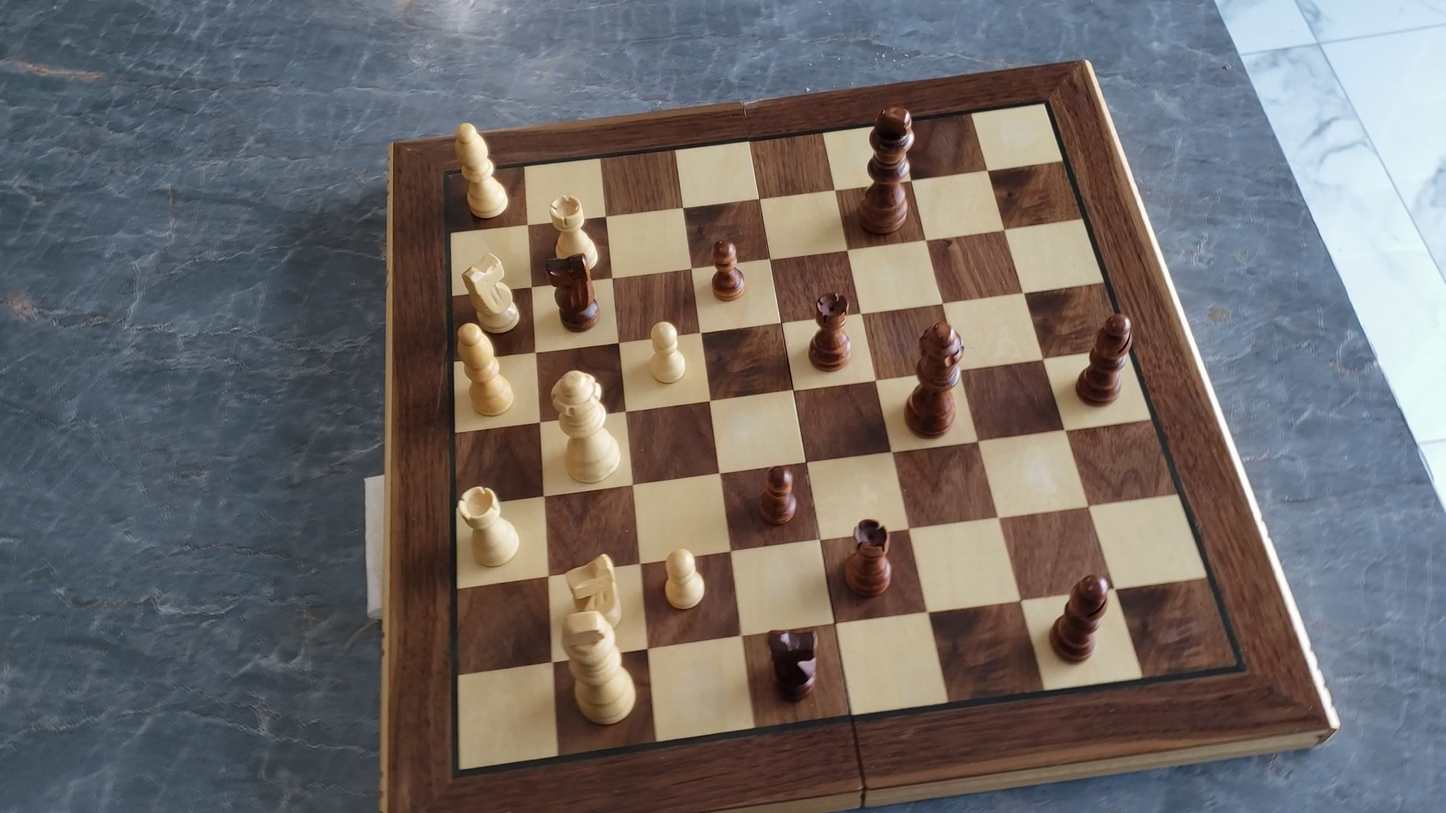black-bishop: (1046, 574, 1115, 668), (1073, 312, 1134, 412)
black-king: (855, 100, 922, 236)
black-knight: (547, 251, 601, 334), (766, 625, 822, 705)
black-pawn: (756, 461, 801, 529), (708, 235, 747, 304)
black-queen: (902, 318, 968, 440)
black-rook: (840, 516, 895, 600), (806, 289, 856, 373)
white-bishop: (450, 117, 512, 222), (452, 320, 517, 419)
white-king: (558, 608, 641, 729)
white-knight: (460, 249, 524, 338), (562, 548, 629, 633)
white-pawn: (657, 544, 711, 614), (643, 317, 690, 388)
white-queen: (550, 369, 624, 488)
white-rook: (456, 483, 524, 571), (546, 191, 605, 277)
